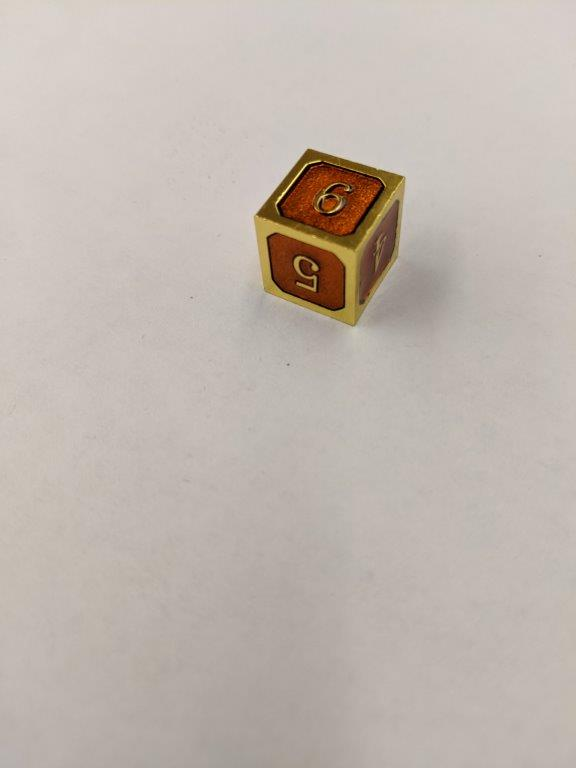d6-6: (252, 145, 405, 327)
